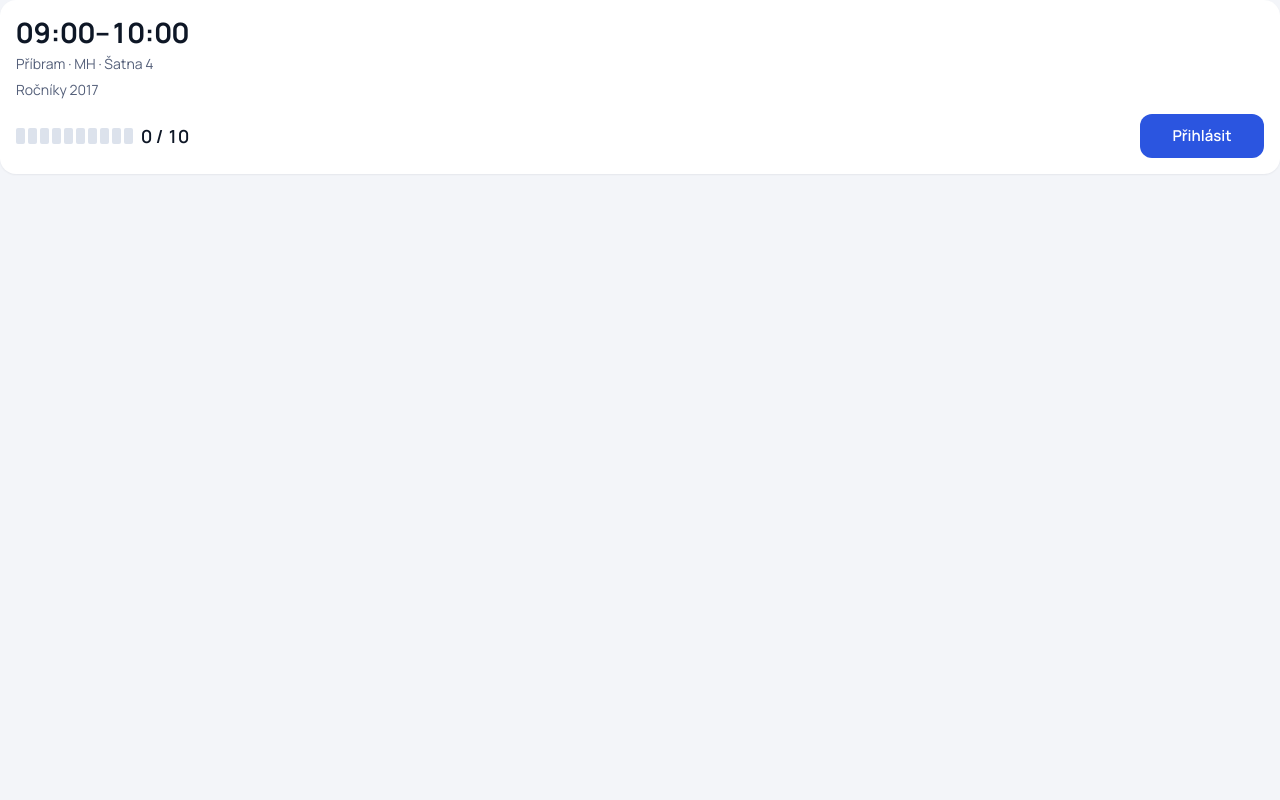
Test case: the booking sheet (AC-268) › lists every athlete, with a reason on the ones that cannot be booked
The width and height of the screenshot is (1280, 800).
Click the button "Přihlásit" at coordinates (1202, 136), box [1140,114,1264,158]
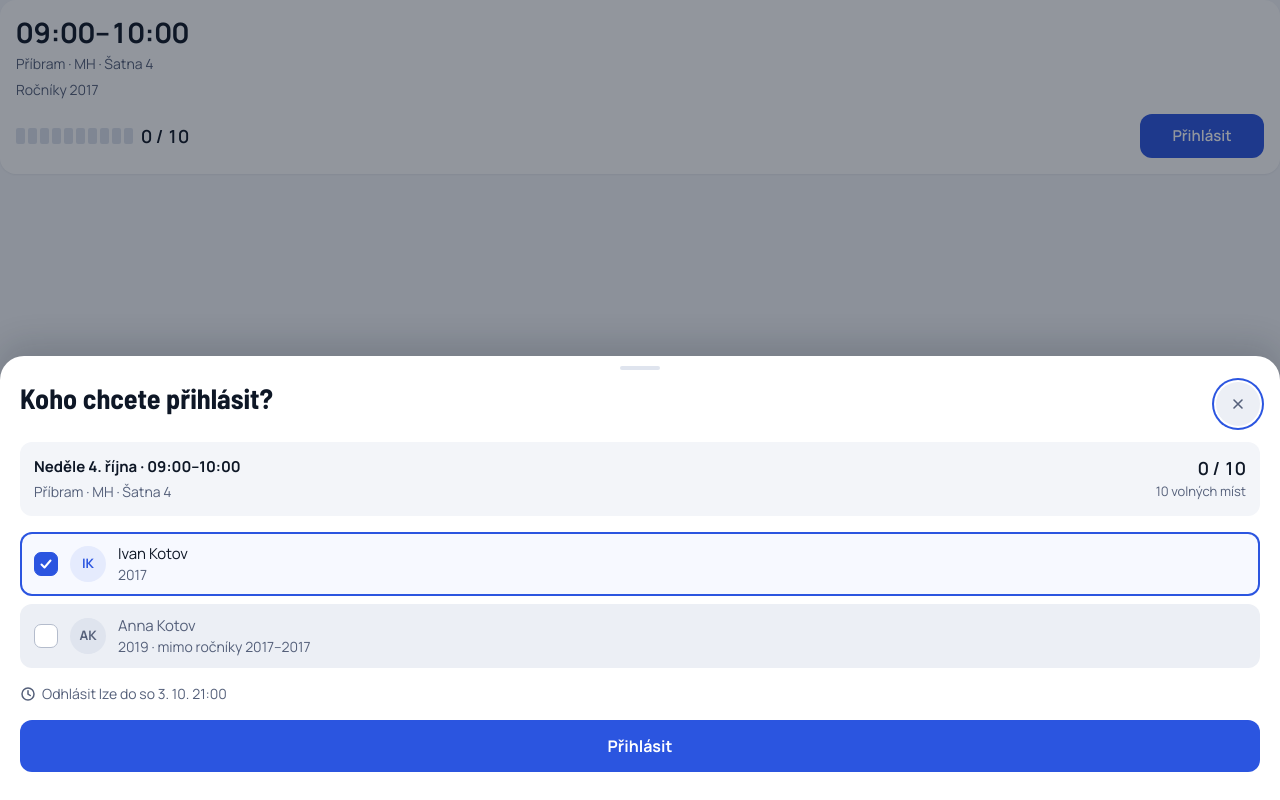
Expected: the dialog shows "Ivan Kotov", [118,543,188,564]
Expected: the dialog shows "2019 · mimo ročníky 2017–2017", [118,637,310,656]
Expected: the checkbox labelled "AK Anna Kotov 2019 · mimo ročníky 2017–2017" is disabled, [20,604,1260,668]
